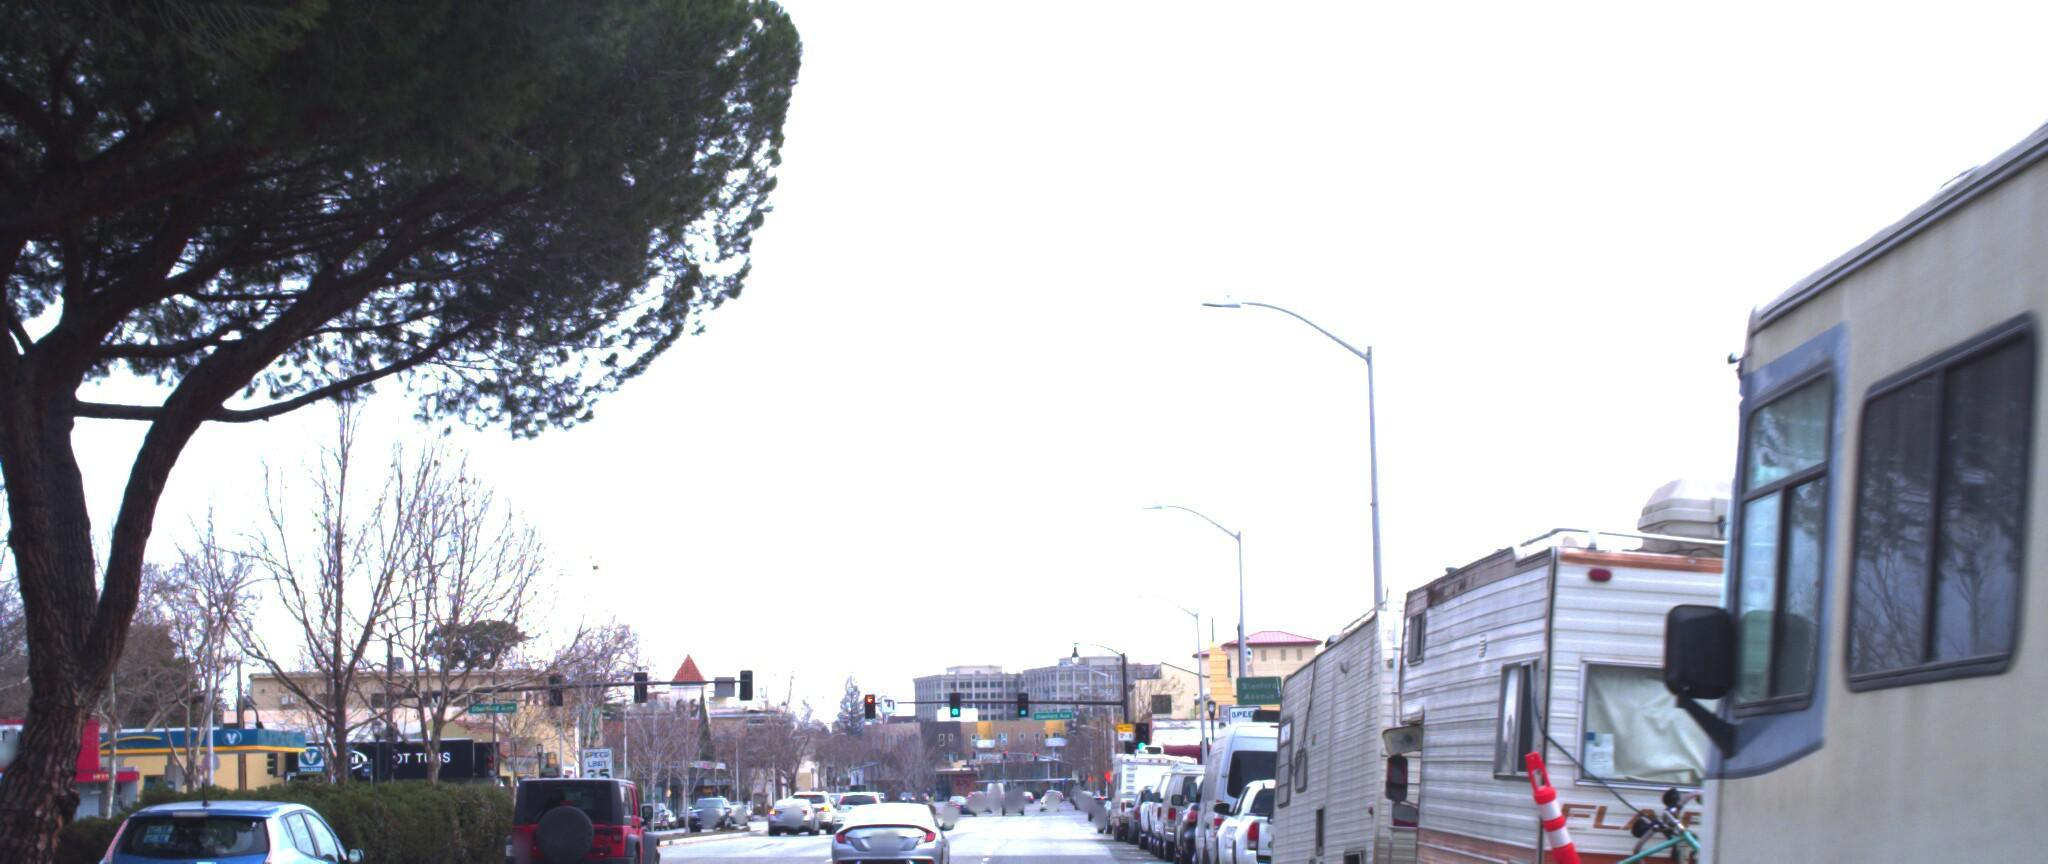car: (67, 777, 391, 864), (1179, 703, 1354, 864), (1211, 771, 1382, 864), (491, 773, 658, 864), (822, 782, 940, 864)
other_vehicle: (1657, 0, 2048, 864), (1369, 482, 2048, 864), (1254, 538, 1779, 864)
